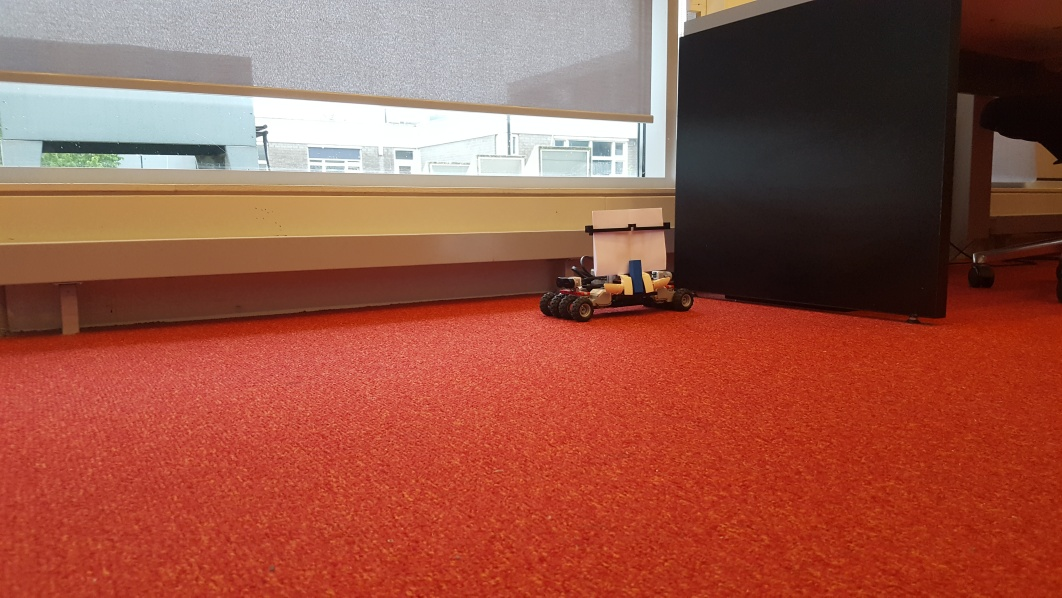car: (540, 209, 695, 319)
